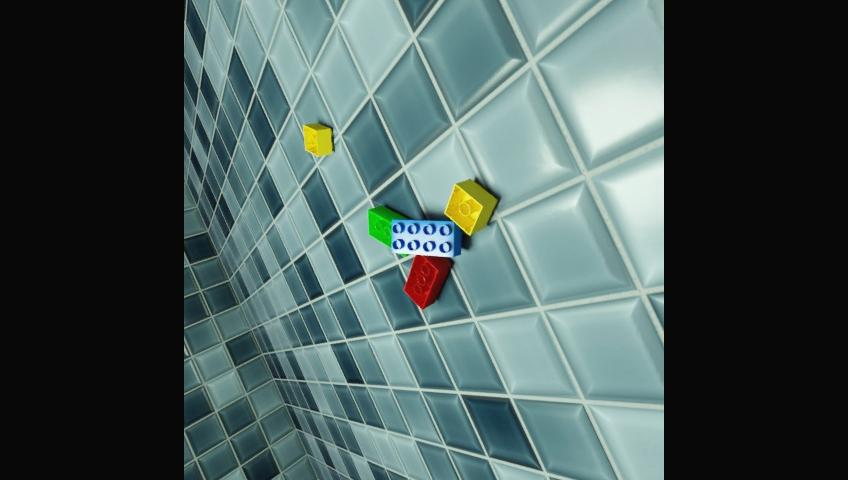2x2_yellow: (444, 179, 497, 235), (302, 123, 333, 156)
4x2_blue: (391, 219, 461, 257)
4x2_green: (367, 206, 406, 249)
4x2_red: (403, 254, 451, 310)
